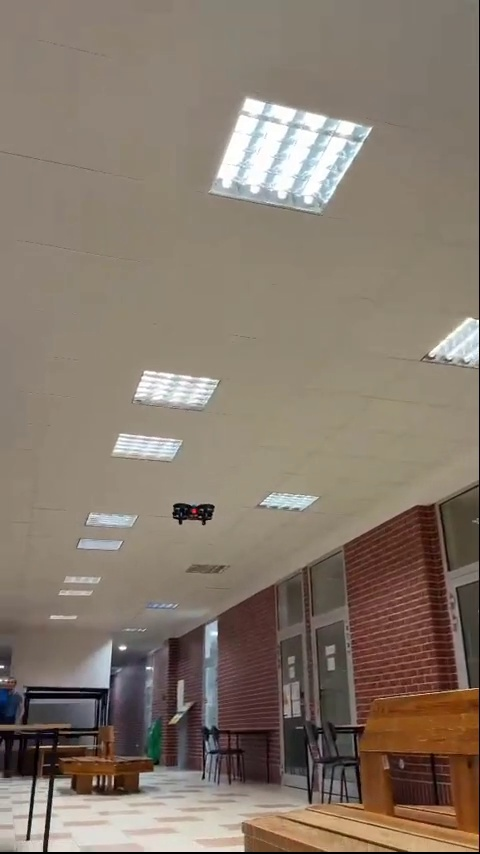drone: (164, 497, 222, 535)
no vest: (0, 670, 25, 728)
